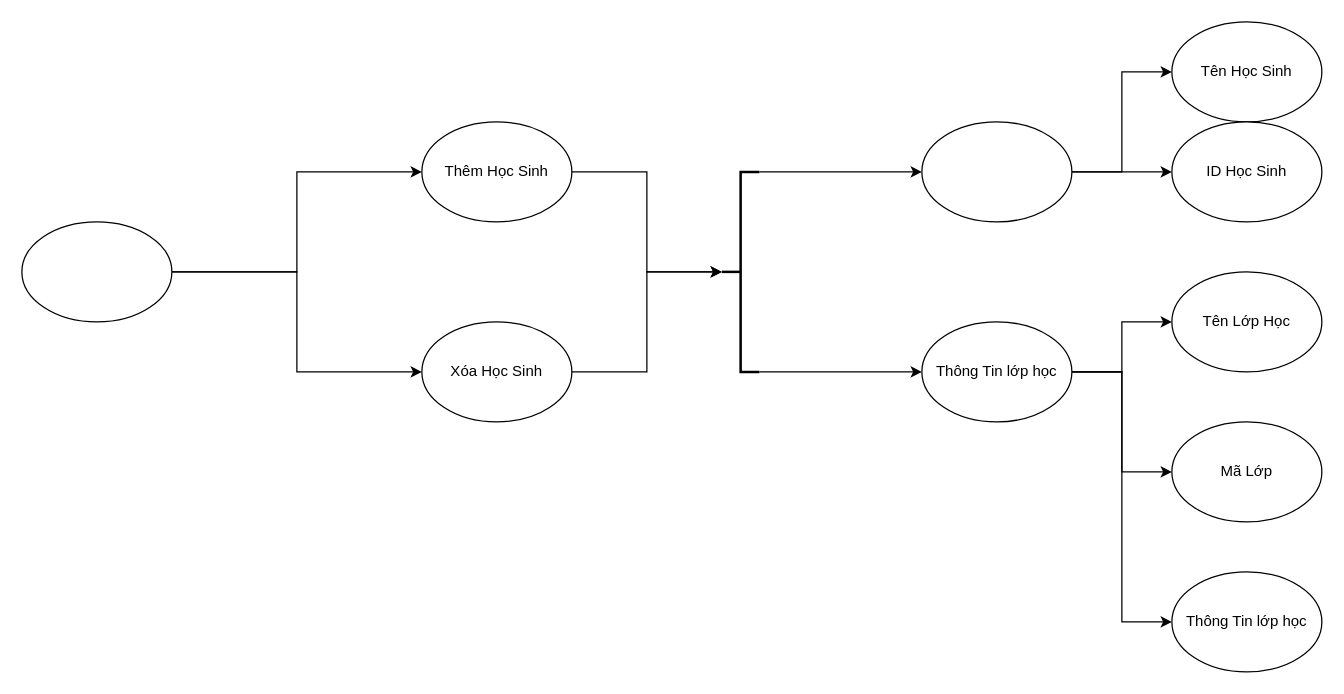
Image size: 1344x694. Some labels were removed from this diagram. Here are the shapes that lost their labels. From the top down, the box of each, then its label:
(921, 121, 1072, 222): Thông Tin Học SInh
(21, 221, 172, 322): Thay đổi học sinh trong lớp
